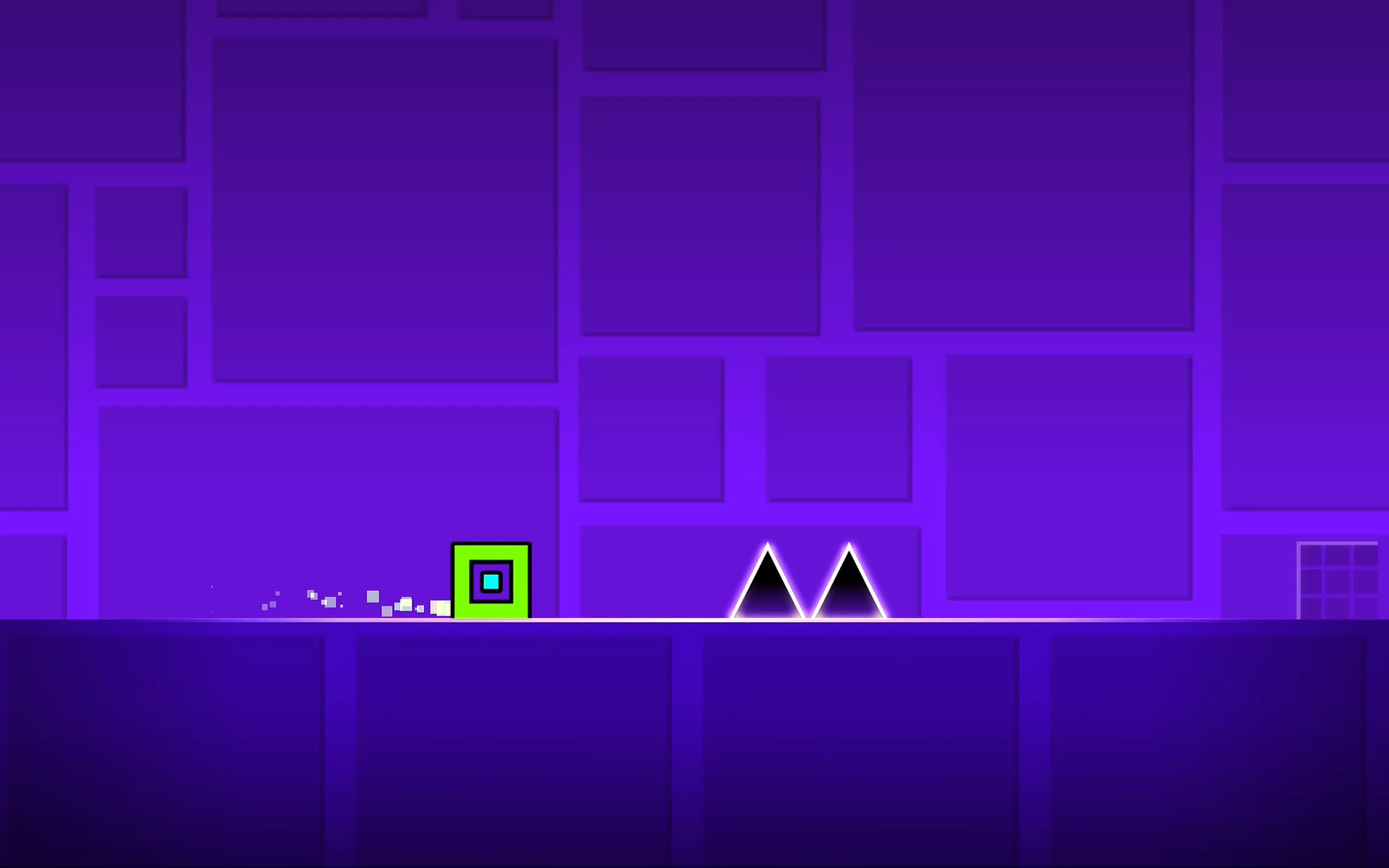Block2: (1298, 540, 1388, 616)
Player: (450, 542, 531, 616)
Spike: (729, 542, 805, 618), (811, 543, 886, 620)
